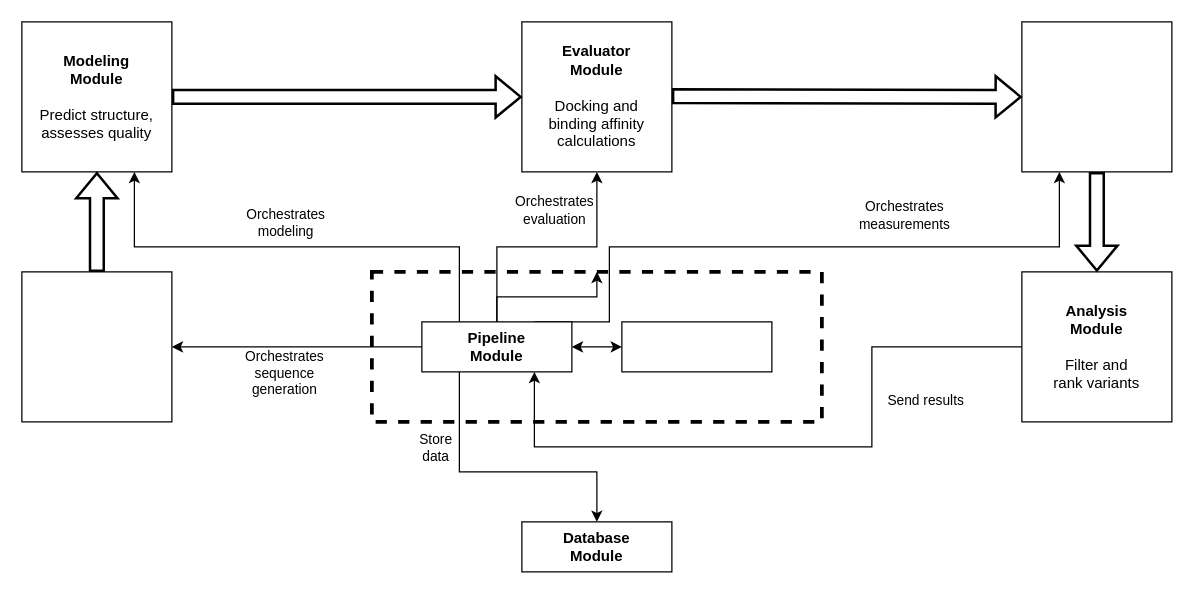
Image size: 1194x594. Some labels were removed from this diagram. The centre of each missing label's shape, as x and y in pixels:
"Measurements Module Calculate distances" goes at point (1096, 96).
"Platform Module" goes at point (696, 346).
"Variant Module Generate Protein Sequences" goes at point (96, 346).
